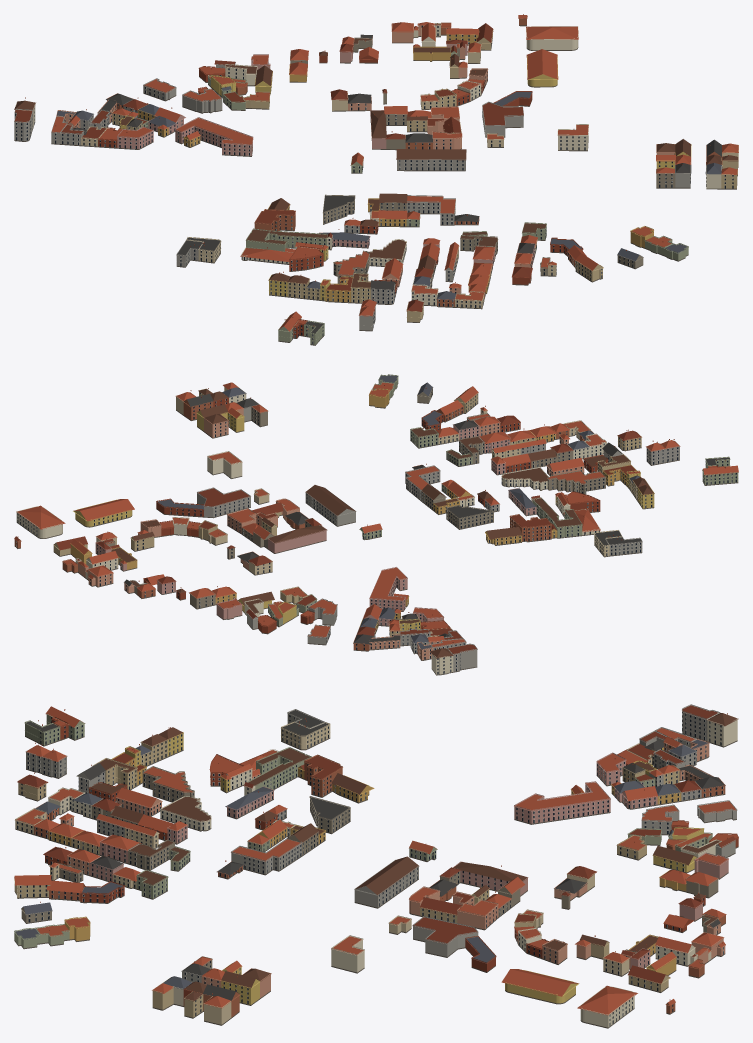
Rendered from Budynki_2_1.fbx.
3 views of the same model, one above another, from view 1: azimuth 30°, elevation 25°; view 2: azimuth 150°, elevation 25°; view 3: azimuth 270°, elevation 25° (orthographic). The views are drawn at different scales.
Parts seen in each view (by area): view 1: Bud_179577188, Bud_208270739, Bud_209413049, Bud_1134350633, Bud_194282510, Bud_1134350634, Bud_287080051, Bud_851021208, Bud_183973034, Bud_1454137731, Bud_208270745, Bud_209413047 (+14 smaller); view 2: Bud_208270739, Bud_179577188, Bud_194282510, Bud_1134350634, Bud_1134350633, Bud_1454137744, Bud_176921446, Bud_209413049, Bud_1454137731, Bud_851021208, Bud_1454137743, Bud_287080051 (+14 smaller); view 3: Bud_179577188, Bud_208270739, Bud_1134350634, Bud_194282510, Bud_1134350633, Bud_287080051, Bud_209413049, Bud_1454137744, Bud_176921446, Bud_1454137743, Bud_851021208, Bud_1454137731 (+46 smaller).
Part boxes in pixels (x1,y1,x2,y2): Bud_179577188: (175, 117, 253, 156); Bud_208270739: (396, 149, 466, 171); Bud_209413049: (245, 228, 327, 251); Bud_1134350633: (526, 26, 578, 50); Bud_194282510: (482, 101, 523, 137); Bud_1134350634: (526, 49, 558, 87); Bud_287080051: (406, 195, 455, 225); Bud_851021208: (254, 209, 295, 231); Bud_183973034: (182, 88, 222, 113); Bud_1454137731: (322, 194, 355, 224); Bud_208270745: (557, 124, 588, 151); Bud_209413047: (289, 245, 323, 271); Bud_208270739: (305, 485, 356, 526); Bud_179577188: (369, 567, 407, 611); Bud_194282510: (197, 487, 250, 518); Bud_1134350634: (73, 499, 134, 527); Bud_1134350633: (16, 505, 65, 538); Bud_1454137744: (547, 470, 605, 494); Bud_176921446: (267, 525, 327, 553); Bud_209413049: (533, 497, 582, 538); Bud_1454137731: (446, 505, 493, 529); Bud_851021208: (509, 514, 551, 542); Bud_1454137743: (501, 467, 548, 490); Bud_287080051: (405, 465, 440, 501); Bud_179577188: (514, 781, 610, 824); Bud_208270739: (354, 856, 419, 908); Bud_1134350634: (501, 969, 579, 1004); Bud_194282510: (412, 916, 478, 957); Bud_1134350633: (577, 985, 637, 1028); Bud_287080051: (231, 838, 302, 875); Bud_209413049: (247, 747, 311, 789); Bud_1454137744: (142, 766, 194, 802); Bud_176921446: (452, 861, 528, 896); Bud_1454137743: (160, 796, 211, 831); Bud_851021208: (304, 754, 342, 797); Bud_1454137731: (309, 796, 350, 834).
Bounding box in the file's own units: 517 × 23.5 × 518.
